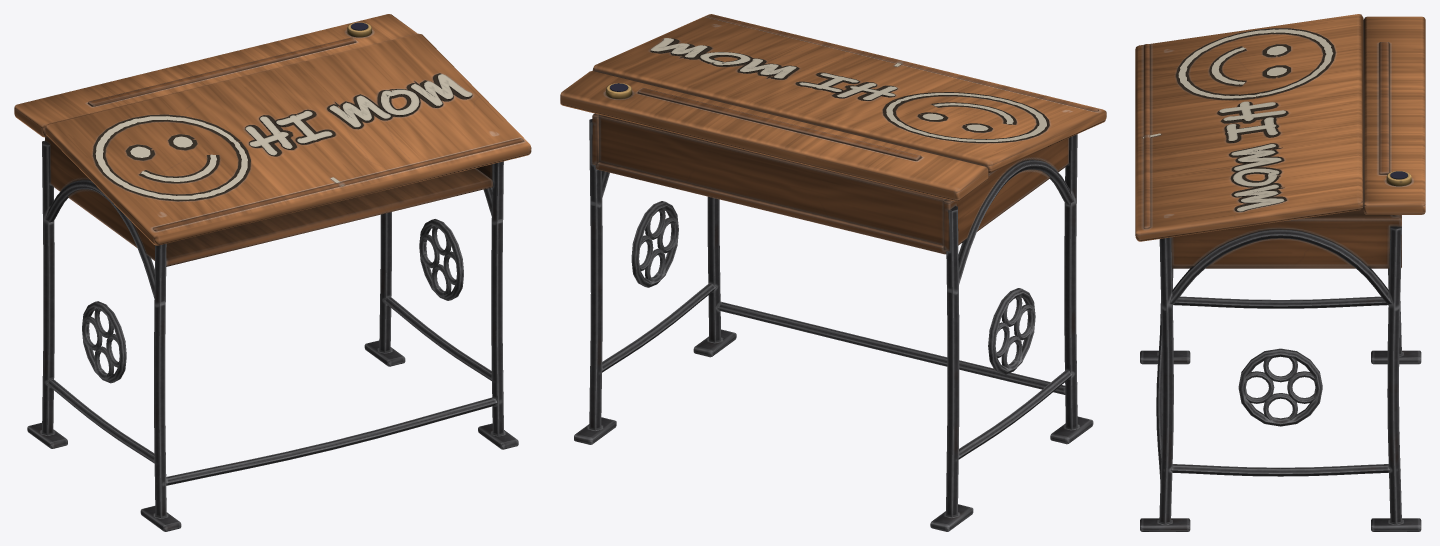
The model's file is StudentDeskPrankOrdinary.fbx.
3 renders of one model, left to right at view 1: azimuth 30°, elevation 25°; view 2: azimuth 150°, elevation 25°; view 3: azimuth 270°, elevation 25°, orthographic. The views are drawn at different scales.
Parts seen in each view (by area): view 1: StudentDeskPrankOrdinary; view 2: StudentDeskPrankOrdinary; view 3: StudentDeskPrankOrdinary.
Boxes of the visible parts, x1=… form: StudentDeskPrankOrdinary: x1=14, y1=14, x2=531, y2=531; StudentDeskPrankOrdinary: x1=560, y1=14, x2=1106, y2=531; StudentDeskPrankOrdinary: x1=1135, y1=14, x2=1425, y2=531.
Bounding box in the file's own units: 300 × 255 × 196.
